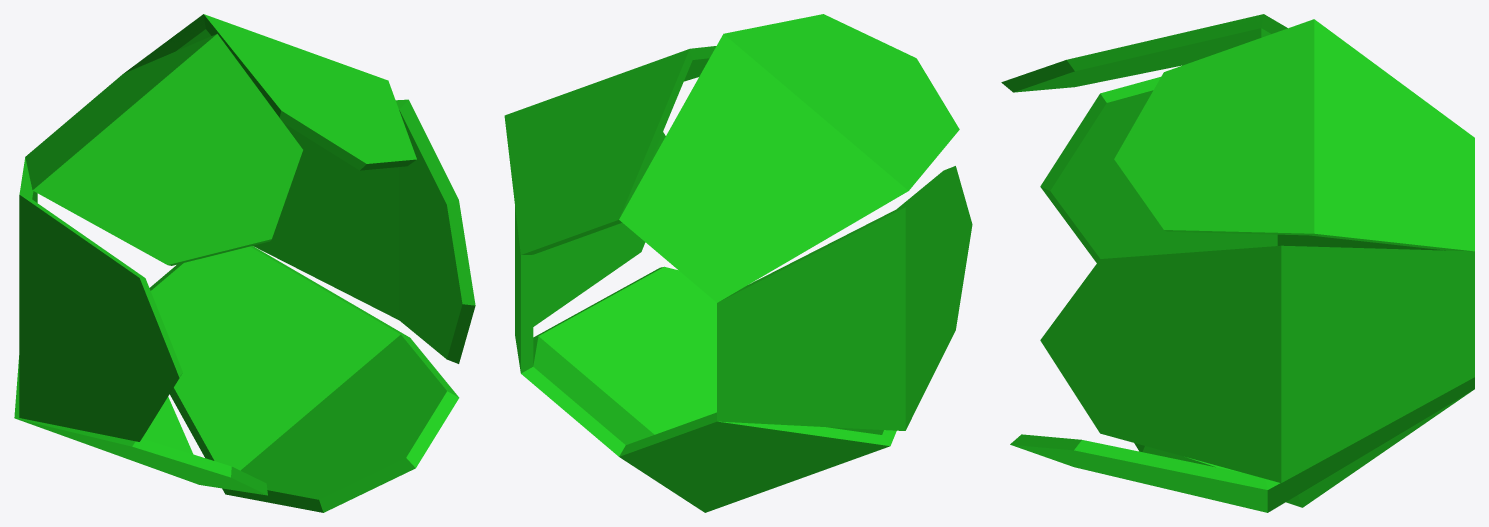
The model's file is GreenCabbageMiddle.obj.
The picture shows the model from 3 angles, left to right: view 1: azimuth 30°, elevation 25°; view 2: azimuth 150°, elevation 25°; view 3: azimuth 270°, elevation 25°; orthographic projection. The views are drawn at different scales.
Parts seen in each view (by area): view 1: cabbage; view 2: cabbage; view 3: cabbage.
Boxes of the visible parts, <box> form: cabbage: <box>14,14,475,512</box>; cabbage: <box>504,14,972,512</box>; cabbage: <box>1001,14,1474,512</box>.
Bounding box in the file's own units: 0.23 × 0.2623 × 0.228.
